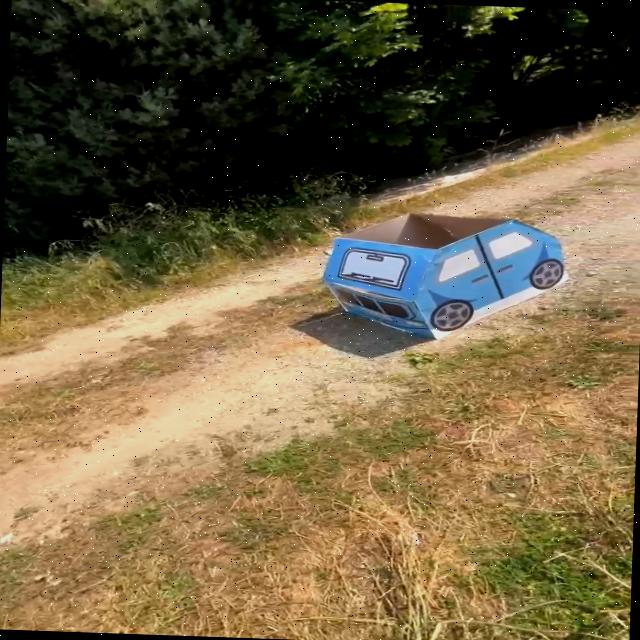blue_car: (307, 177, 580, 365)
